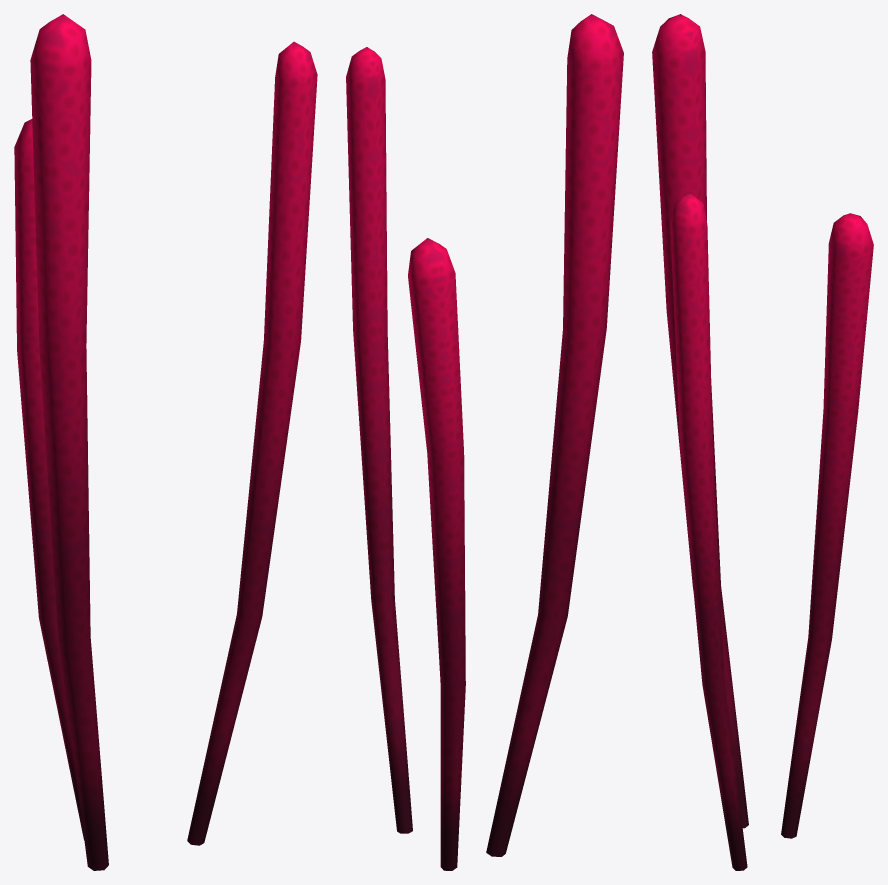
Rendered from Coral_07a.FBX.
3 renders of one model, left to right at view 1: azimuth 30°, elevation 25°; view 2: azimuth 150°, elevation 25°; view 3: azimuth 270°, elevation 25°, orthographic. The views are drawn at different scales.
Parts seen in each view (by area): view 1: Coral_07a; view 2: Coral_07a; view 3: Coral_07a.
Part boxes in pixels (x1=…): Coral_07a: x1=14, y1=14, x2=317, y2=870; Coral_07a: x1=346, y1=14, x2=623, y2=870; Coral_07a: x1=652, y1=14, x2=873, y2=870.
Bounding box in the file's own units: 59.68 × 181 × 46.53.
